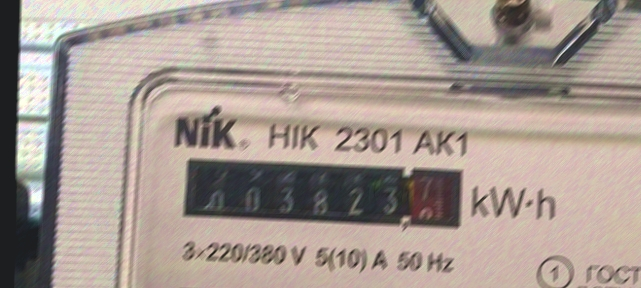0: (241, 182, 262, 210), (208, 185, 226, 209)
2: (346, 183, 366, 216)
3: (381, 183, 400, 214), (277, 182, 296, 212)
7: (419, 174, 436, 203)
8: (311, 185, 329, 213)
9: (210, 164, 229, 184)
screen: (177, 152, 467, 231)
